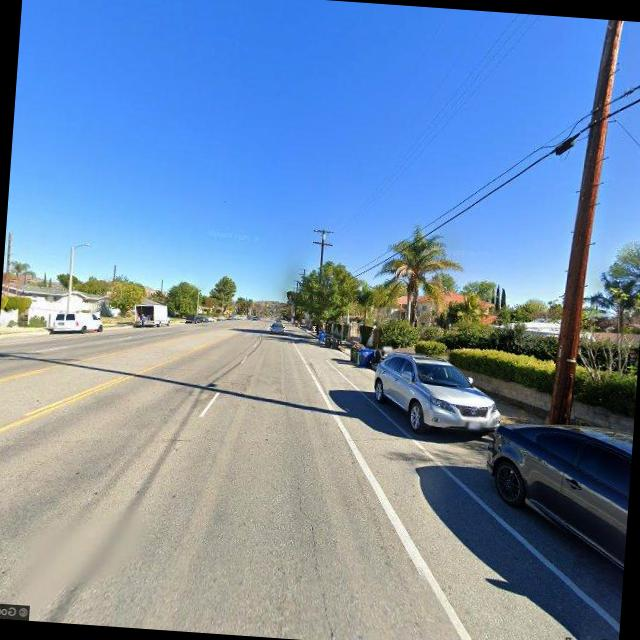crack: (287, 482, 353, 640)
